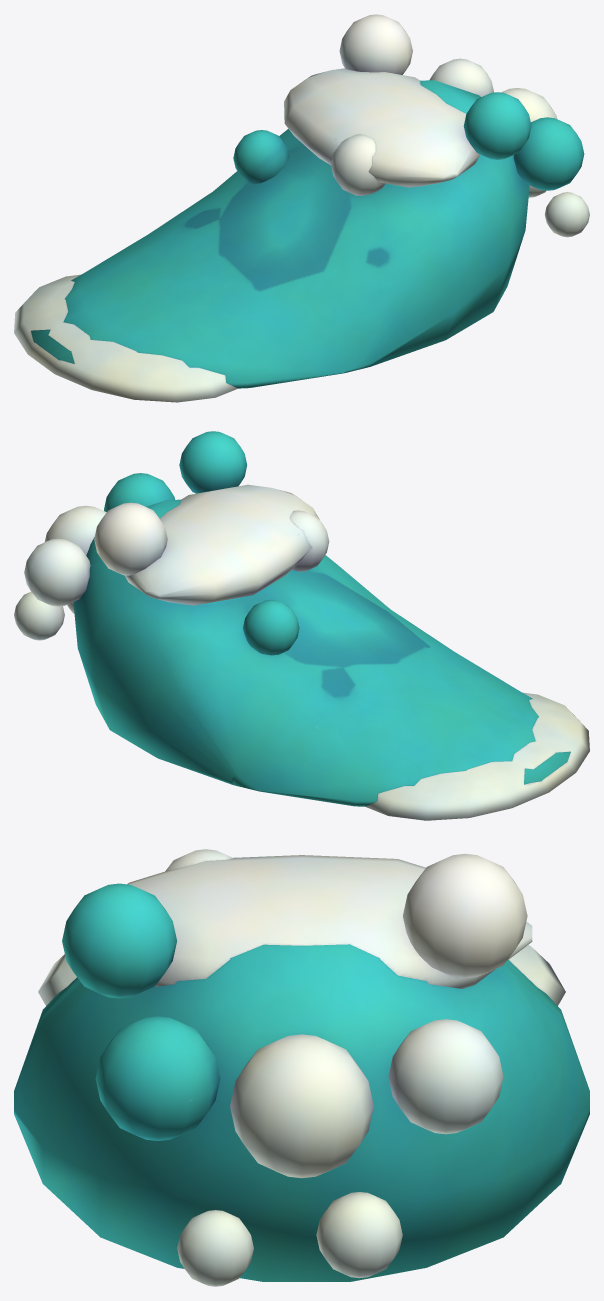
File: CC_FX_FoamWave.fbx
3 views of the same model, one above another, from view 1: azimuth 30°, elevation 25°; view 2: azimuth 150°, elevation 25°; view 3: azimuth 270°, elevation 25° (orthographic). The views are drawn at different scales.
Visible parts, largest first — view 1: CC_FX_FoamWave; view 2: CC_FX_FoamWave; view 3: CC_FX_FoamWave.
Boxes of the visible parts, bbox=[...] form: CC_FX_FoamWave: bbox=[14, 14, 589, 402]; CC_FX_FoamWave: bbox=[14, 431, 589, 820]; CC_FX_FoamWave: bbox=[14, 849, 589, 1286].
Size of the model in its own units: 215 by 85 by 120.
1 material, 1 textured.
